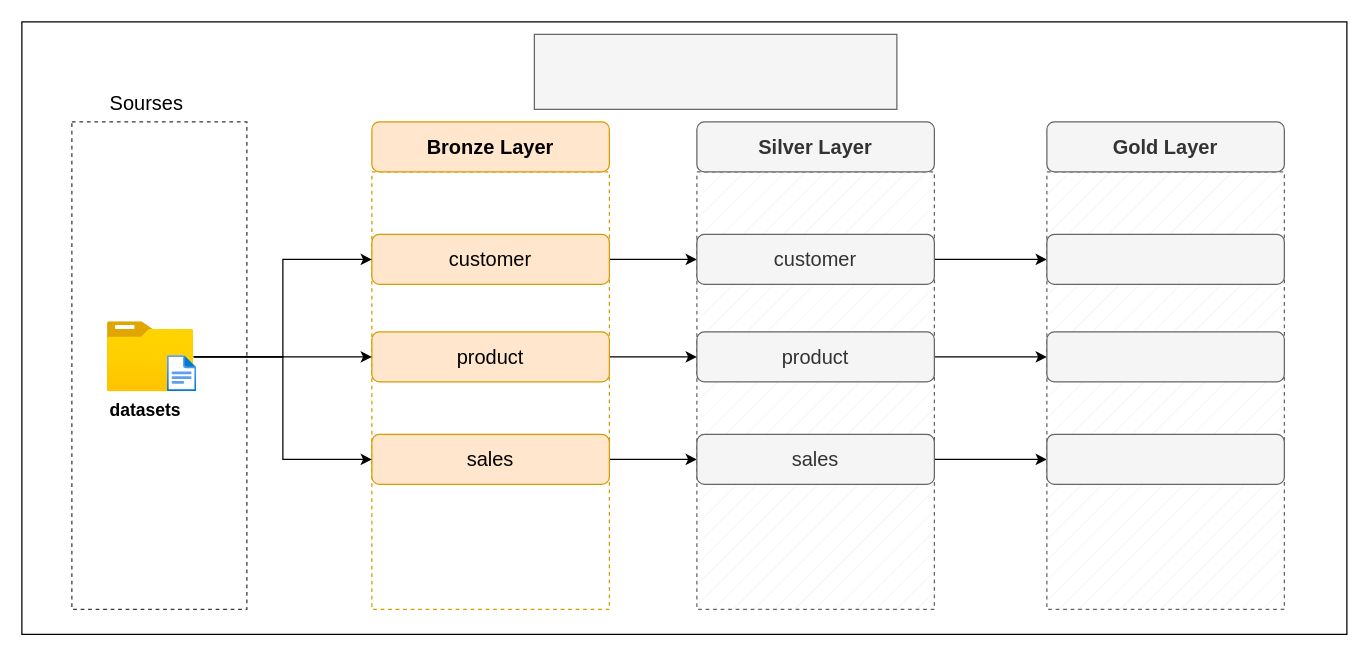
This 1369x656 diagram has some shape labels left out. Here are the shapes that lost their labels. From the top down, the centre of each, then its label:
the point at 715,71: Data Flow Diagram
the point at 1165,258: dim_customer
the point at 1165,356: dim_product
the point at 1165,458: fact_sales
